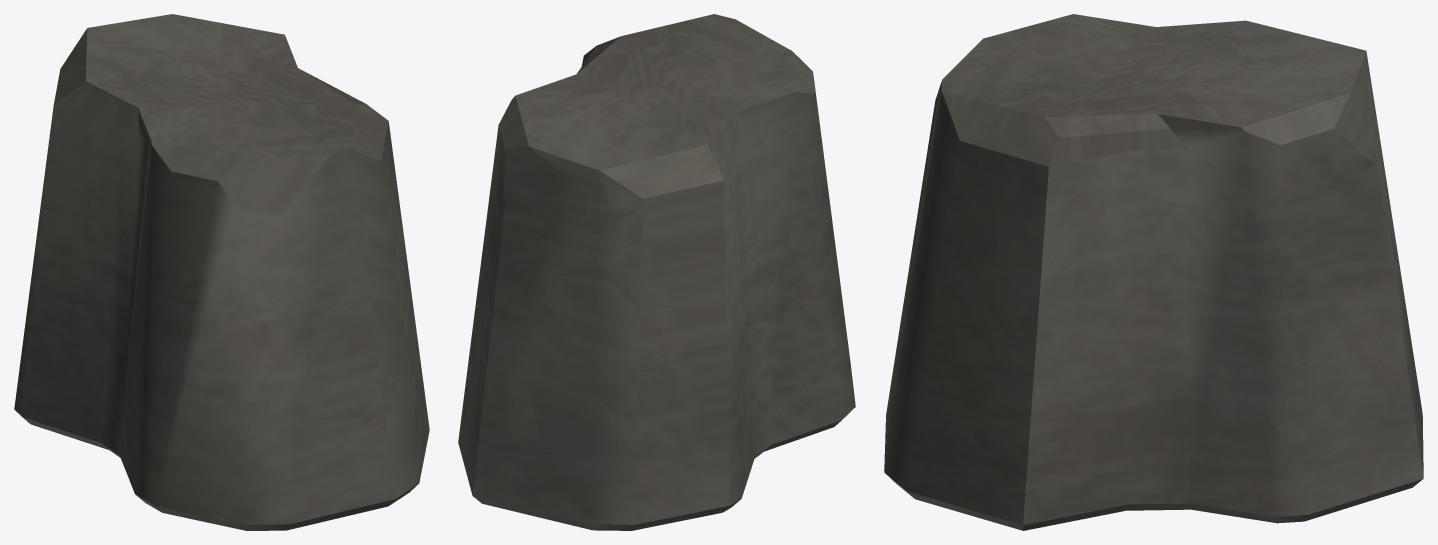
The model's file is ZachMesaRock14.fbx.
3 renders of one model, left to right at view 1: azimuth 30°, elevation 25°; view 2: azimuth 150°, elevation 25°; view 3: azimuth 270°, elevation 25°, orthographic. The views are drawn at different scales.
Visible parts, largest first — view 1: ZachMesaRock14; view 2: ZachMesaRock14; view 3: ZachMesaRock14.
Part boxes in pixels (left/top/right/bottom): ZachMesaRock14: left=14, top=14, right=429, bottom=530; ZachMesaRock14: left=458, top=14, right=855, bottom=530; ZachMesaRock14: left=884, top=14, right=1423, bottom=530.
Size of the model in its own units: 1.77 by 2 by 2.55.
